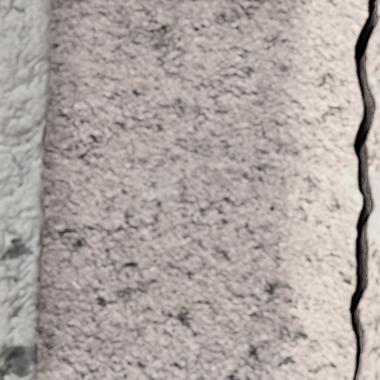broken_brick: (38, 0, 366, 379), (358, 0, 379, 379)
crack: (348, 0, 378, 379)
